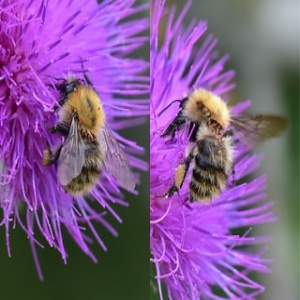bee: (164, 86, 291, 205), (52, 64, 134, 204)
